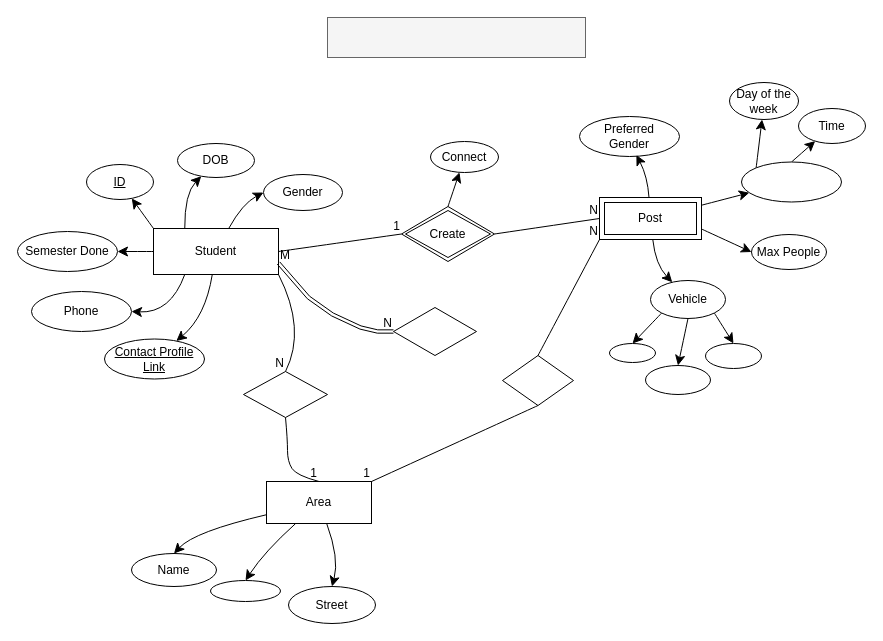
This 883x641 diagram has some shape labels left out. Each missing label, with the box of its shape:
BRACu TravelBuddy: (326, 16, 586, 58)
Bus: (704, 342, 762, 368)
CNG: (608, 342, 656, 362)
Day Wise Preferred Time: (740, 161, 842, 202)
Lives: (242, 370, 328, 418)
Mention: (502, 354, 574, 406)
Partners: (392, 306, 476, 356)
Privt.Car: (644, 364, 710, 394)
ZIP: (210, 580, 280, 602)
